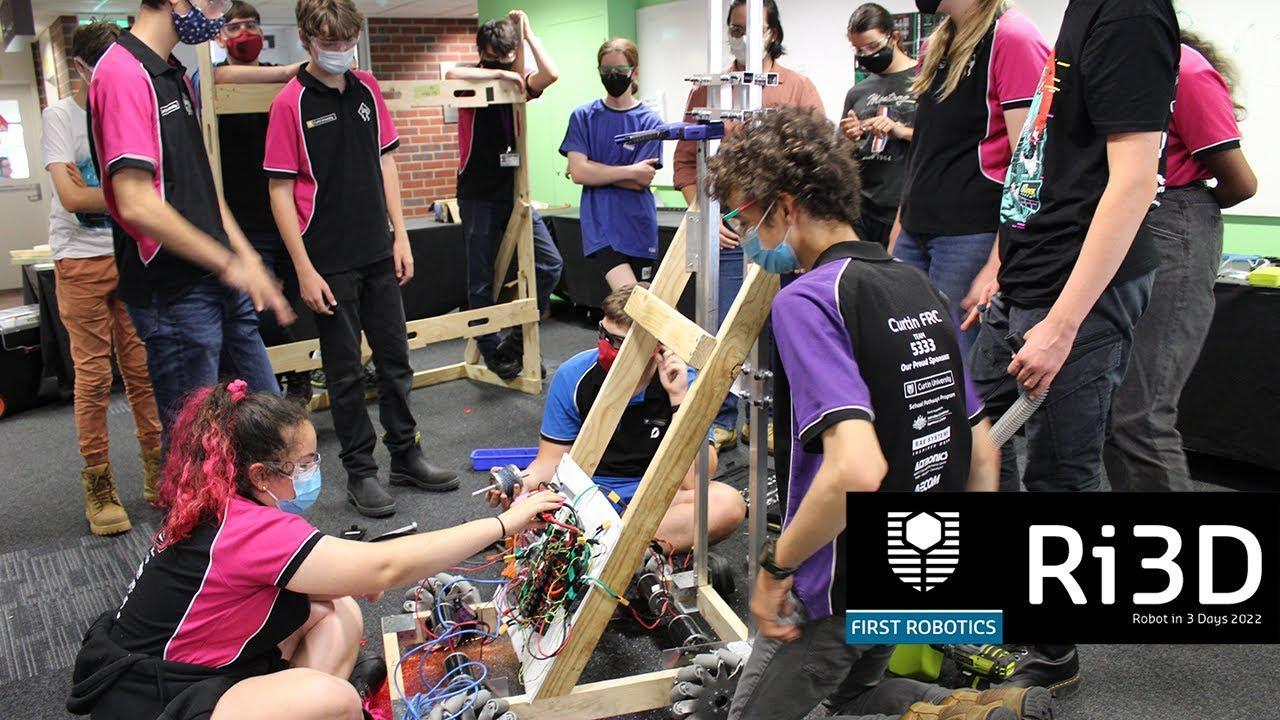robot: (383, 0, 781, 720)
